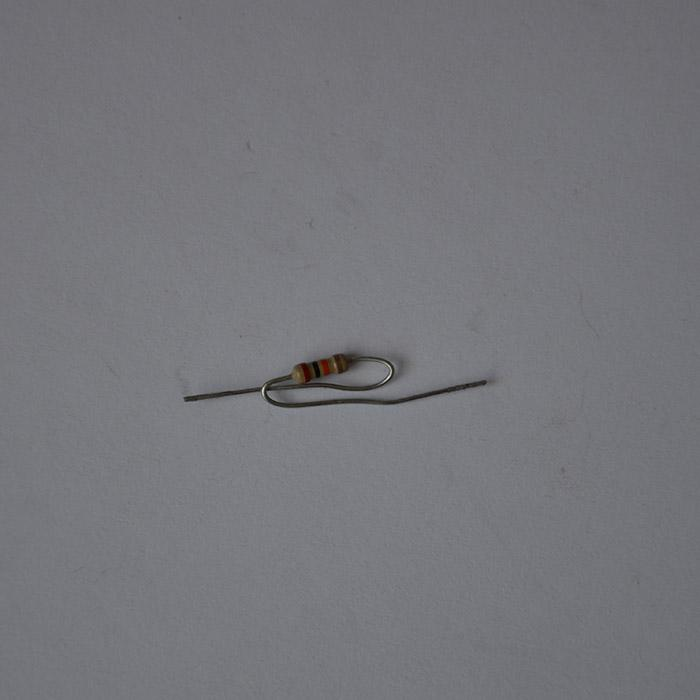resistor: (290, 353, 347, 384)
